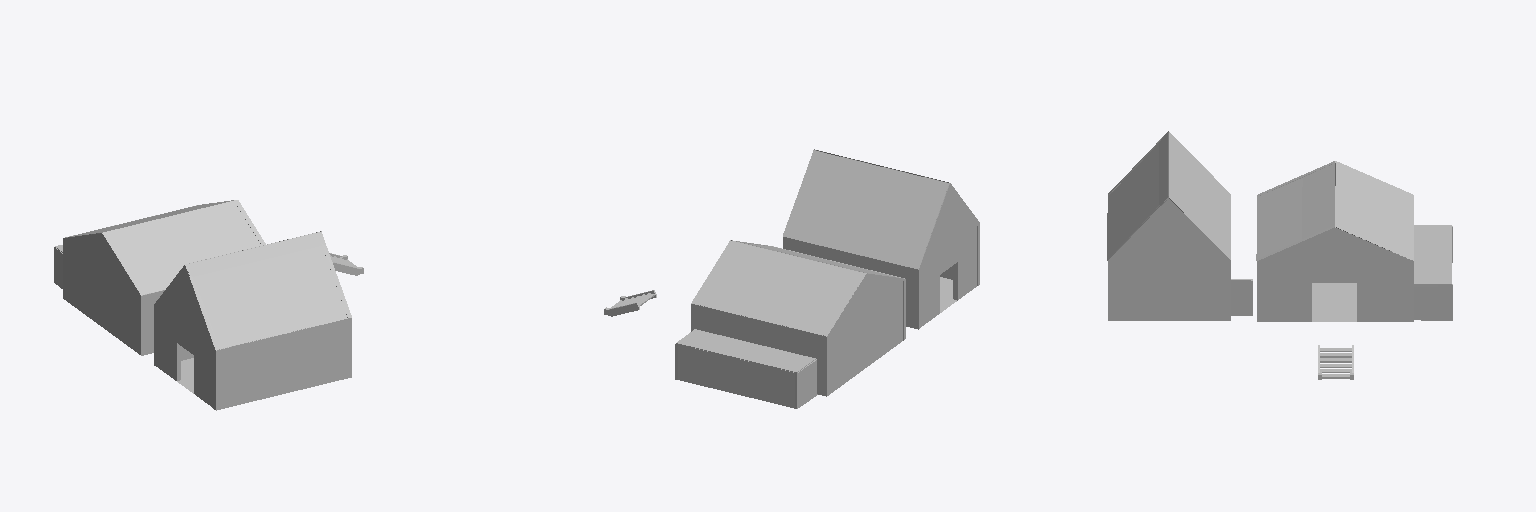
The model's file is houses-test.obj.
3 views of the same model, side by side, from view 1: azimuth 30°, elevation 25°; view 2: azimuth 150°, elevation 25°; view 3: azimuth 270°, elevation 25° (orthographic).
Visible parts, largest first — view 1: roof_left.001_Cube.014, Cube.011_Cube.016, roof_left_Cube.007, Cube.017_Cube.023, Cube.012_Cube.017, Cube.013_Cube.015, Cube.002, Cube.005, roof_right_Cube.006; view 2: roof_right.001_Cube.013, roof_right_Cube.006, Cube.017_Cube.023, Cube.009_Cube.012, Cube, Cube.012_Cube.017, Cube.015_Cube.020, Cube.003_Cube.009, Cube.013_Cube.015, Cube.002, Cube.007_Cube.011; view 3: Cube.004, Cube.016_Cube.021, roof_right_Cube.006, roof_left_Cube.007, roof_right.001_Cube.013, Cube.014_Cube.019, roof_left.001_Cube.014, Cube.001, Cube.003_Cube.009, Plane, Cube.006_Cube.010, Cube.010_Cube.022.
Boxes of the visible parts, box(x1,y1,x2,y2) form: roof_left.001_Cube.014: box(186, 231, 351, 350); Cube.011_Cube.016: box(213, 318, 351, 410); roof_left_Cube.007: box(107, 201, 261, 293); Cube.017_Cube.023: box(65, 240, 138, 353); Cube.012_Cube.017: box(157, 308, 212, 407); Cube.013_Cube.015: box(154, 264, 219, 349); Cube.002: box(64, 232, 144, 295); Cube.005: box(139, 290, 164, 355); roof_right_Cube.006: box(63, 200, 235, 238); roof_right.001_Cube.013: box(783, 150, 948, 269); roof_right_Cube.006: box(691, 240, 865, 336); Cube.017_Cube.023: box(830, 281, 902, 393); Cube.009_Cube.012: box(678, 344, 794, 408); Cube: box(691, 303, 829, 396); Cube.012_Cube.017: box(921, 227, 976, 326); Cube.015_Cube.020: box(783, 237, 920, 329); Cube.003_Cube.009: box(676, 329, 815, 372); Cube.013_Cube.015: box(919, 183, 979, 268); Cube.002: box(828, 273, 904, 334); Cube.007_Cube.011: box(795, 359, 817, 408); Cube.004: box(1257, 261, 1413, 321); Cube.016_Cube.021: box(1113, 261, 1225, 320); roof_right_Cube.006: box(1335, 161, 1413, 260); roof_left_Cube.007: box(1256, 163, 1335, 260); roof_right.001_Cube.013: box(1168, 132, 1230, 259); Cube.014_Cube.019: box(1108, 196, 1230, 260); roof_left.001_Cube.014: box(1107, 131, 1168, 260); Cube.001: box(1257, 225, 1411, 260); Cube.003_Cube.009: box(1414, 225, 1451, 286); Plane: box(1312, 283, 1356, 318); Cube.006_Cube.010: box(1414, 284, 1452, 320); Cube.010_Cube.022: box(1231, 279, 1252, 315).
Size of the model in its own units: 34.66 by 16.55 by 40.9.